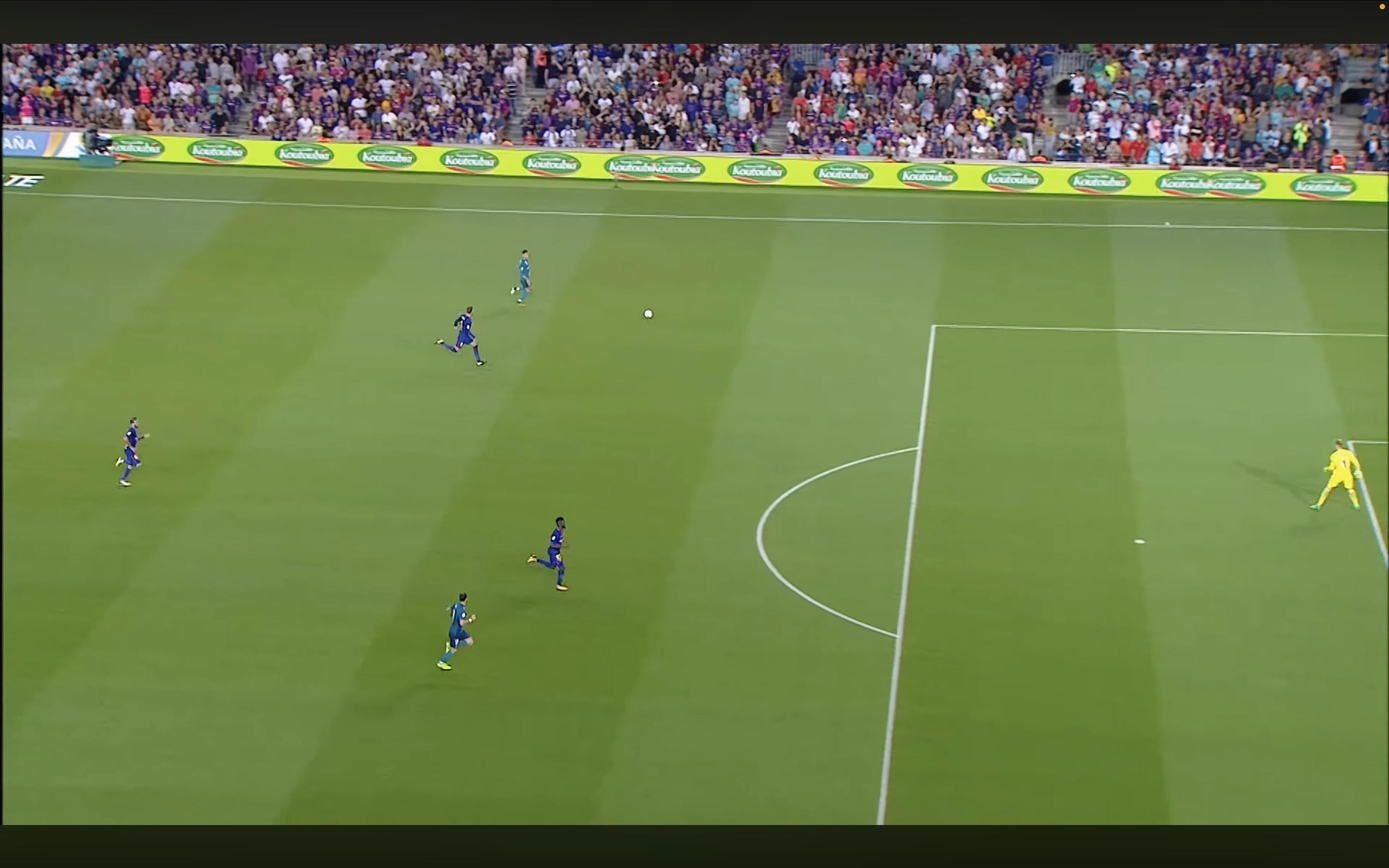ball: (643, 309, 653, 319)
goalkeeper: (1311, 439, 1361, 509)
player: (527, 517, 568, 591), (437, 593, 475, 670), (436, 307, 485, 366), (116, 418, 148, 486), (511, 250, 530, 305)
